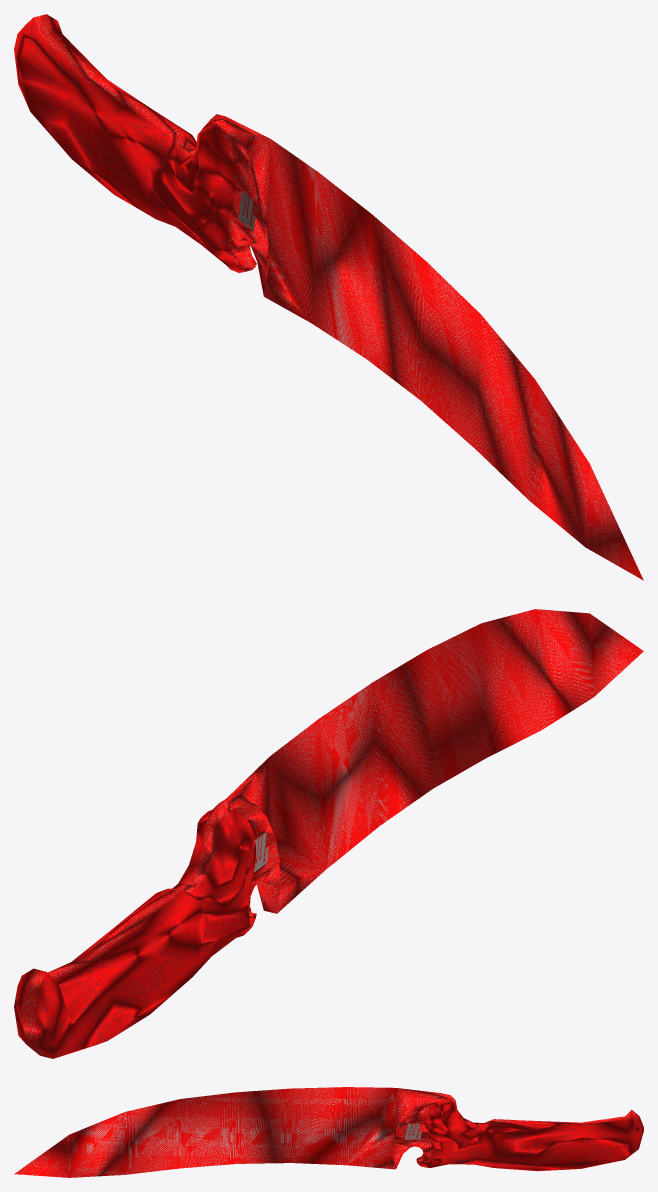
Rendered from model_align.obj.
3 renders of one model, top to bottom at view 1: azimuth 30°, elevation 25°; view 2: azimuth 150°, elevation 25°; view 3: azimuth 270°, elevation 25°, orthographic. The views are drawn at different scales.
Size of the model in its own units: 0.0096 by 0.0323 by 0.2055.
